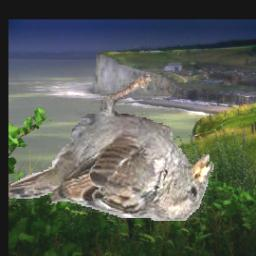Sparrow: (8, 73, 214, 222)
